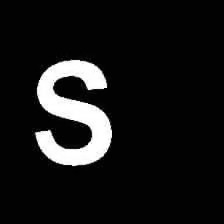LTR_S: (24, 52, 122, 171)
